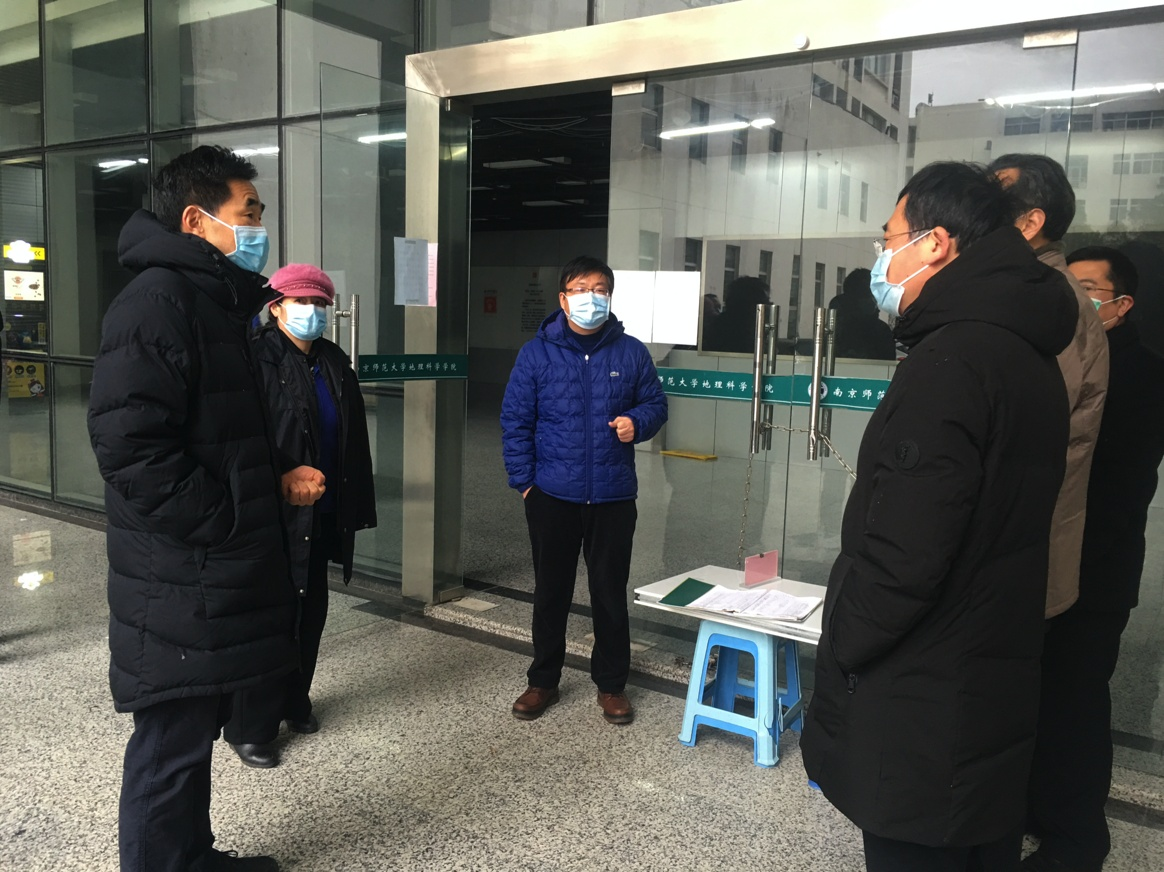correctlyWear: (867, 205, 949, 327), (182, 187, 271, 274), (1082, 270, 1136, 336), (267, 289, 333, 342), (557, 275, 617, 331)
